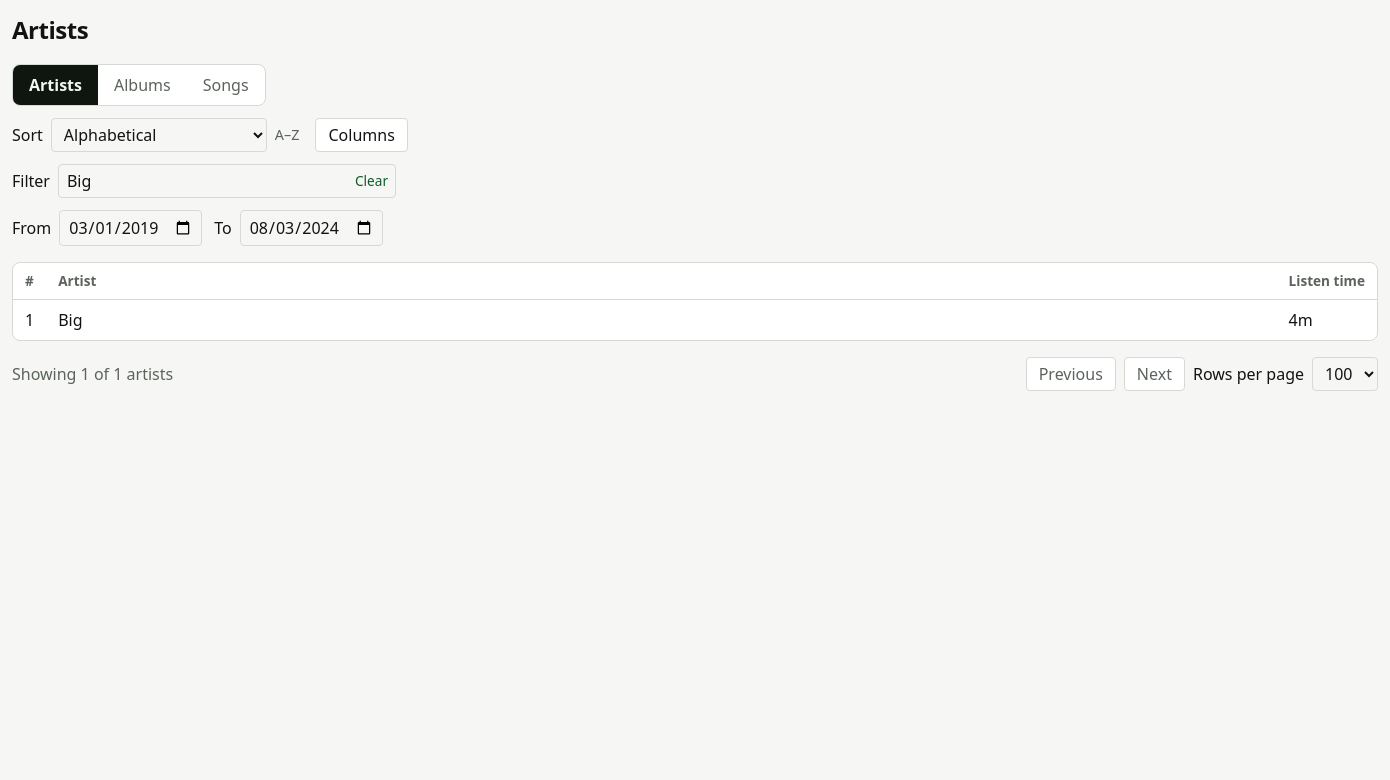
Test: DataPage › keeps the view across kinds and shows song and album subtitles
Step 1. Click the link "Songs" → [226, 85], box [203,74,249,96]
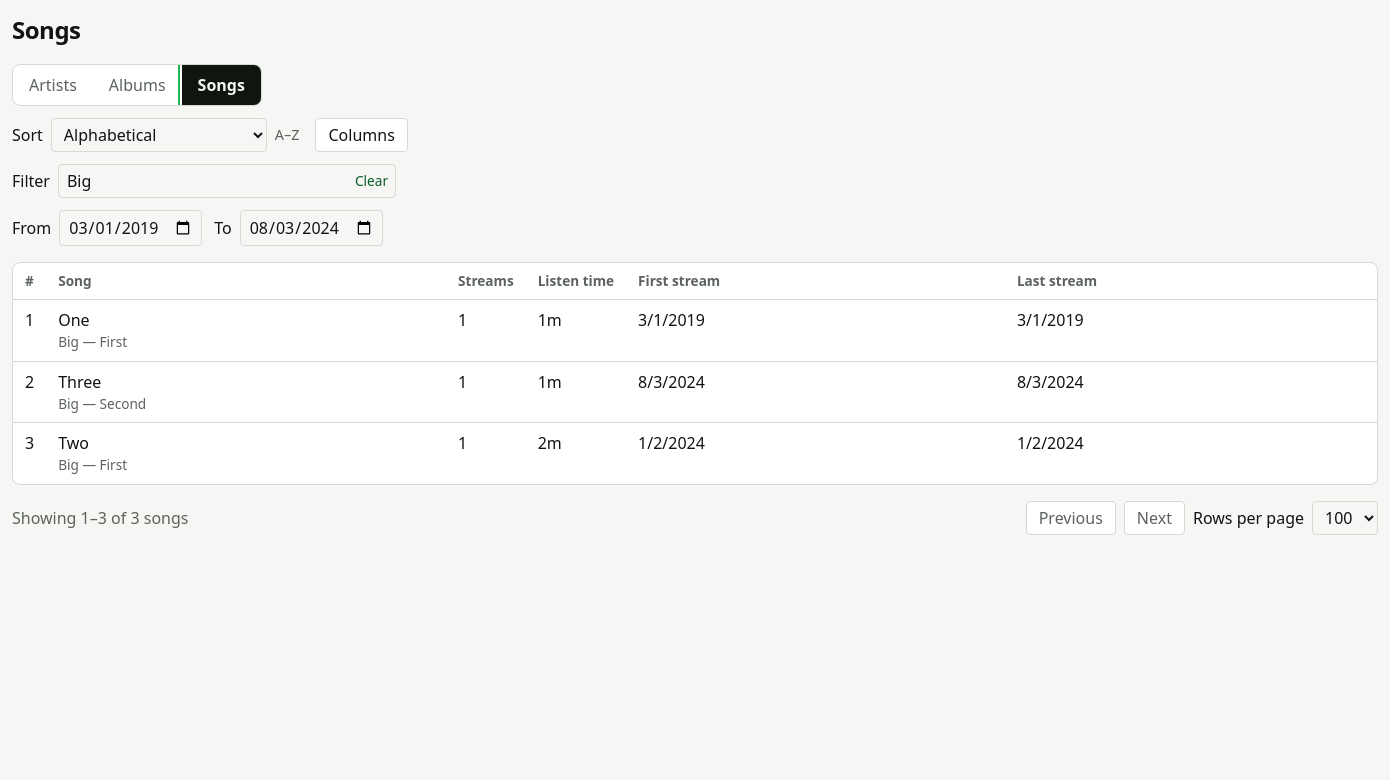
Check: the heading "Songs" is shown, box [12,13,81,46]
Step 2. Click the link "Albums" → [137, 85], box [109,74,166,96]
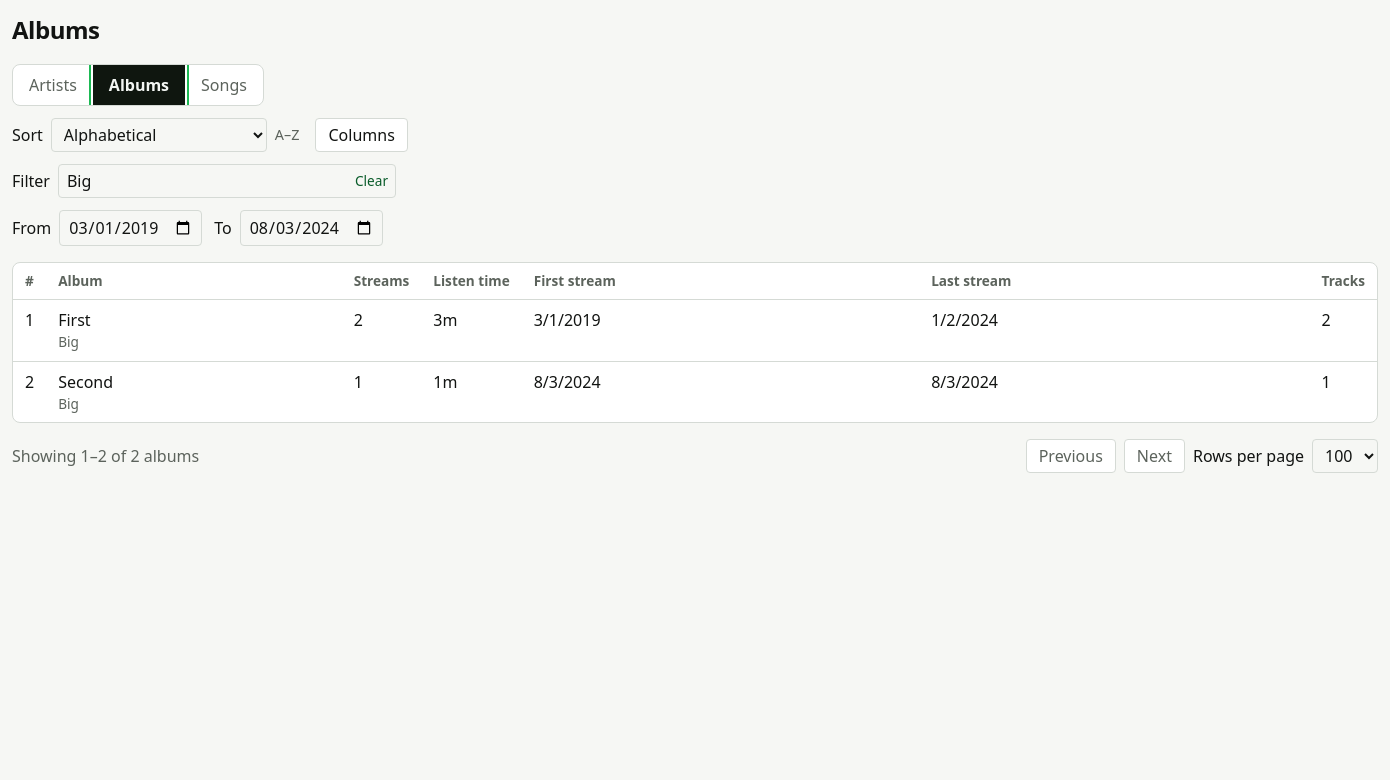
Check: the element titled "First — Big" is shown, box [58,309,91,351]
